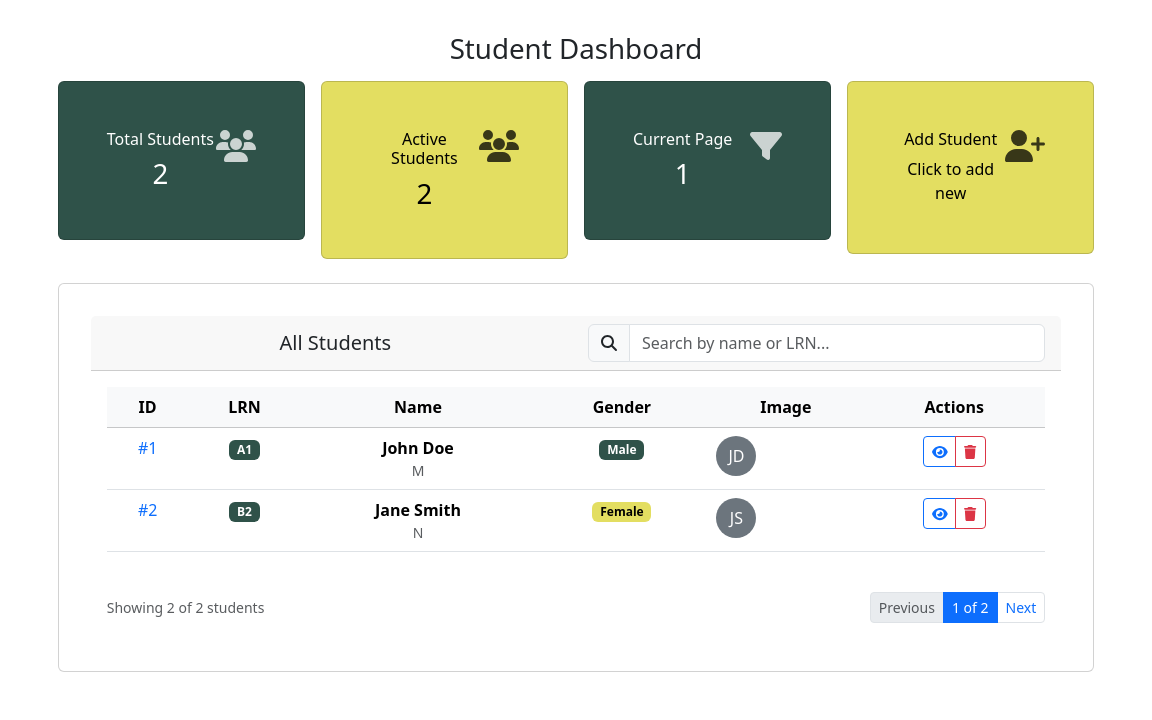
Scenario: Dashboard › filters students based on search input
The width and height of the screenshot is (1152, 720).
Type "Jane" into the field with placeholder "Search by name or LRN..." at point(837, 343), box [629,324,1045,362]
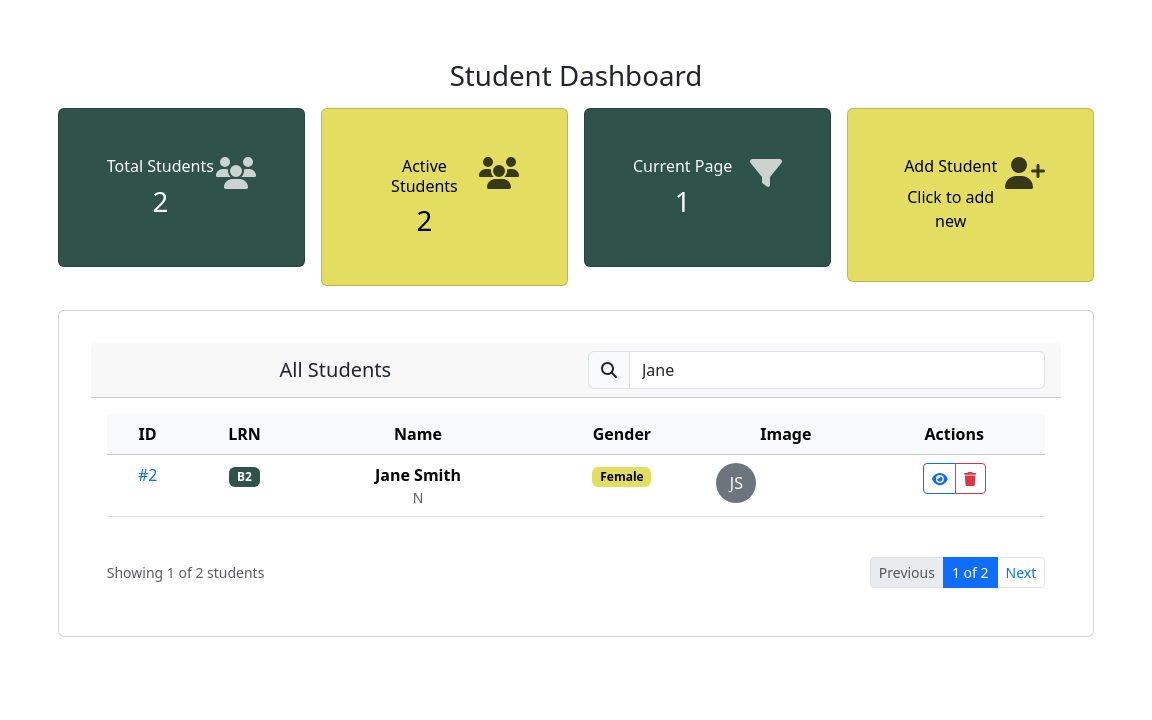
Expected: the text "Jane Smith" is shown, [375,464,461,486]
Expected: the text "John Doe" is gone
